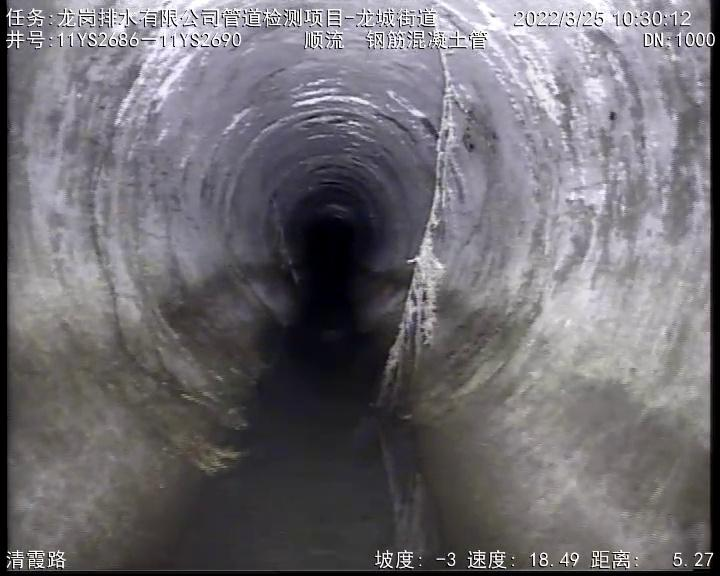SG: (376, 54, 457, 411)
